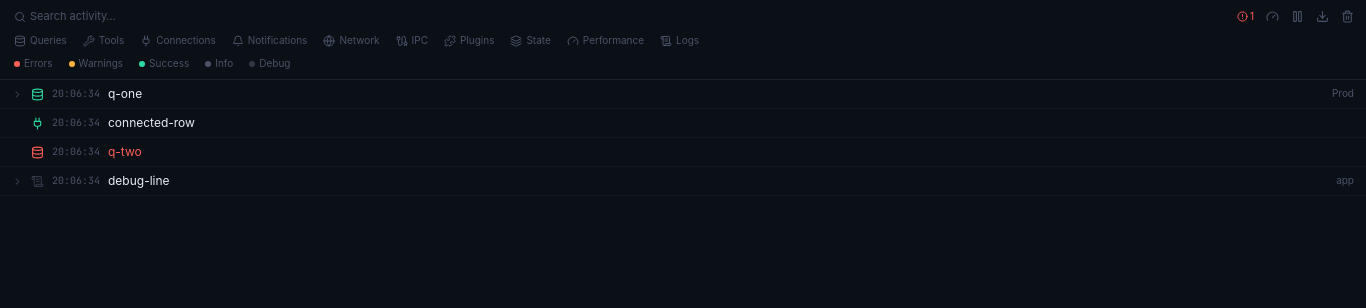
Test: ActivityList › expands an entry detail on click
Expected: the text "SELECT 1" is not shown
Click the text "q-one".
click(125, 94)  # box [108,86,142,101]
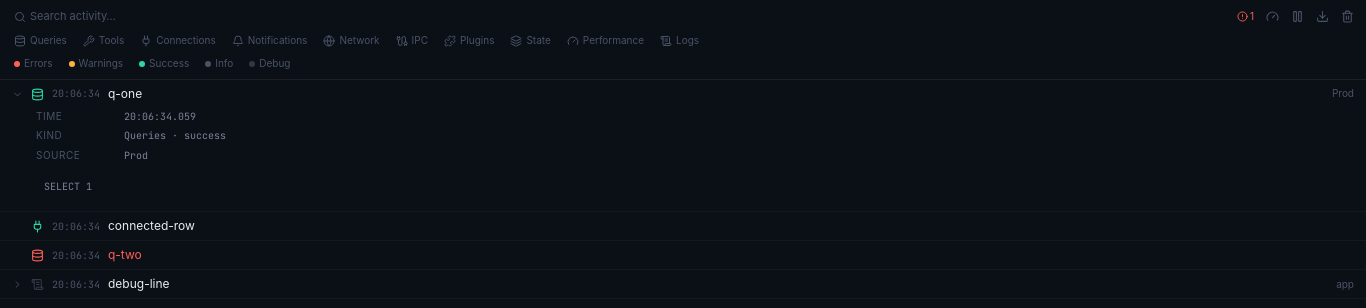
Now the text "SELECT 1" is shown, box [44,180,92,193]
